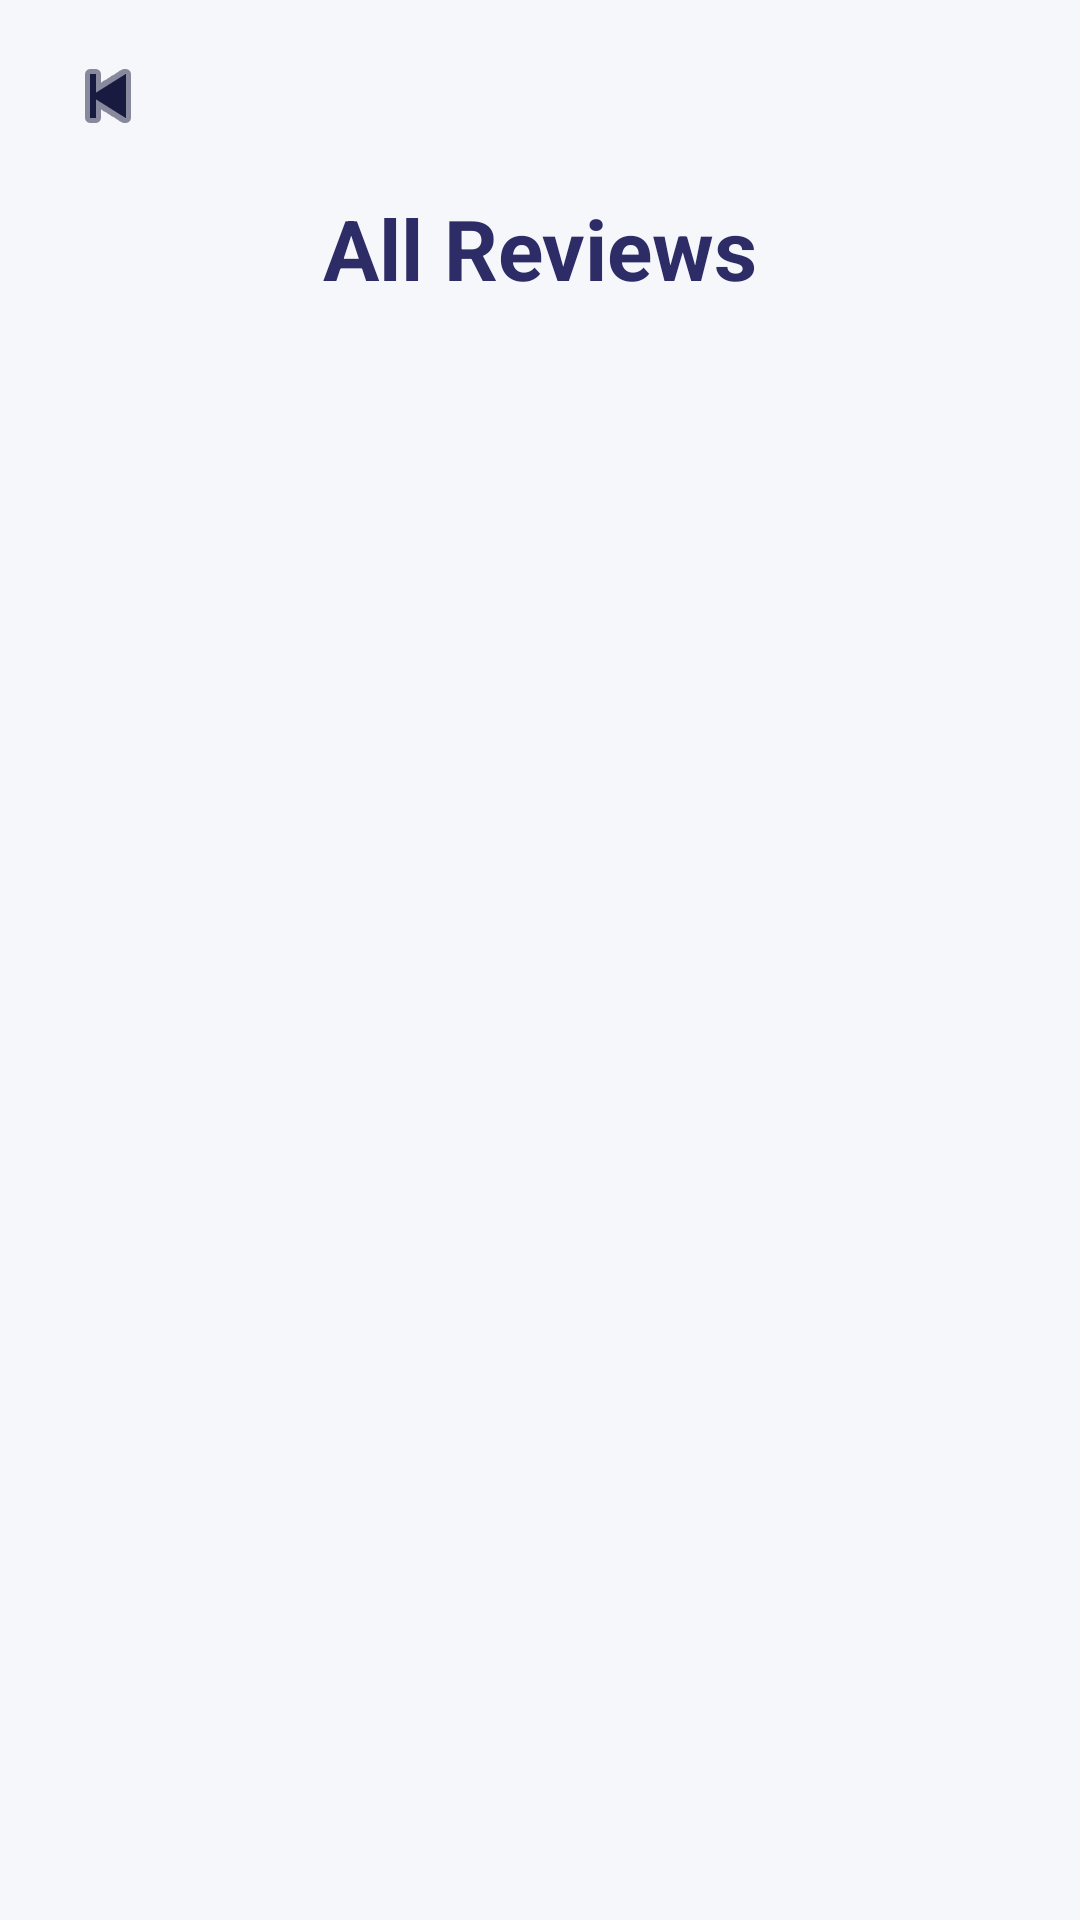

Screen size 1080w x 1920h. Icon name, then its center in pixels as point (x, y):
Back: point (108, 96)
